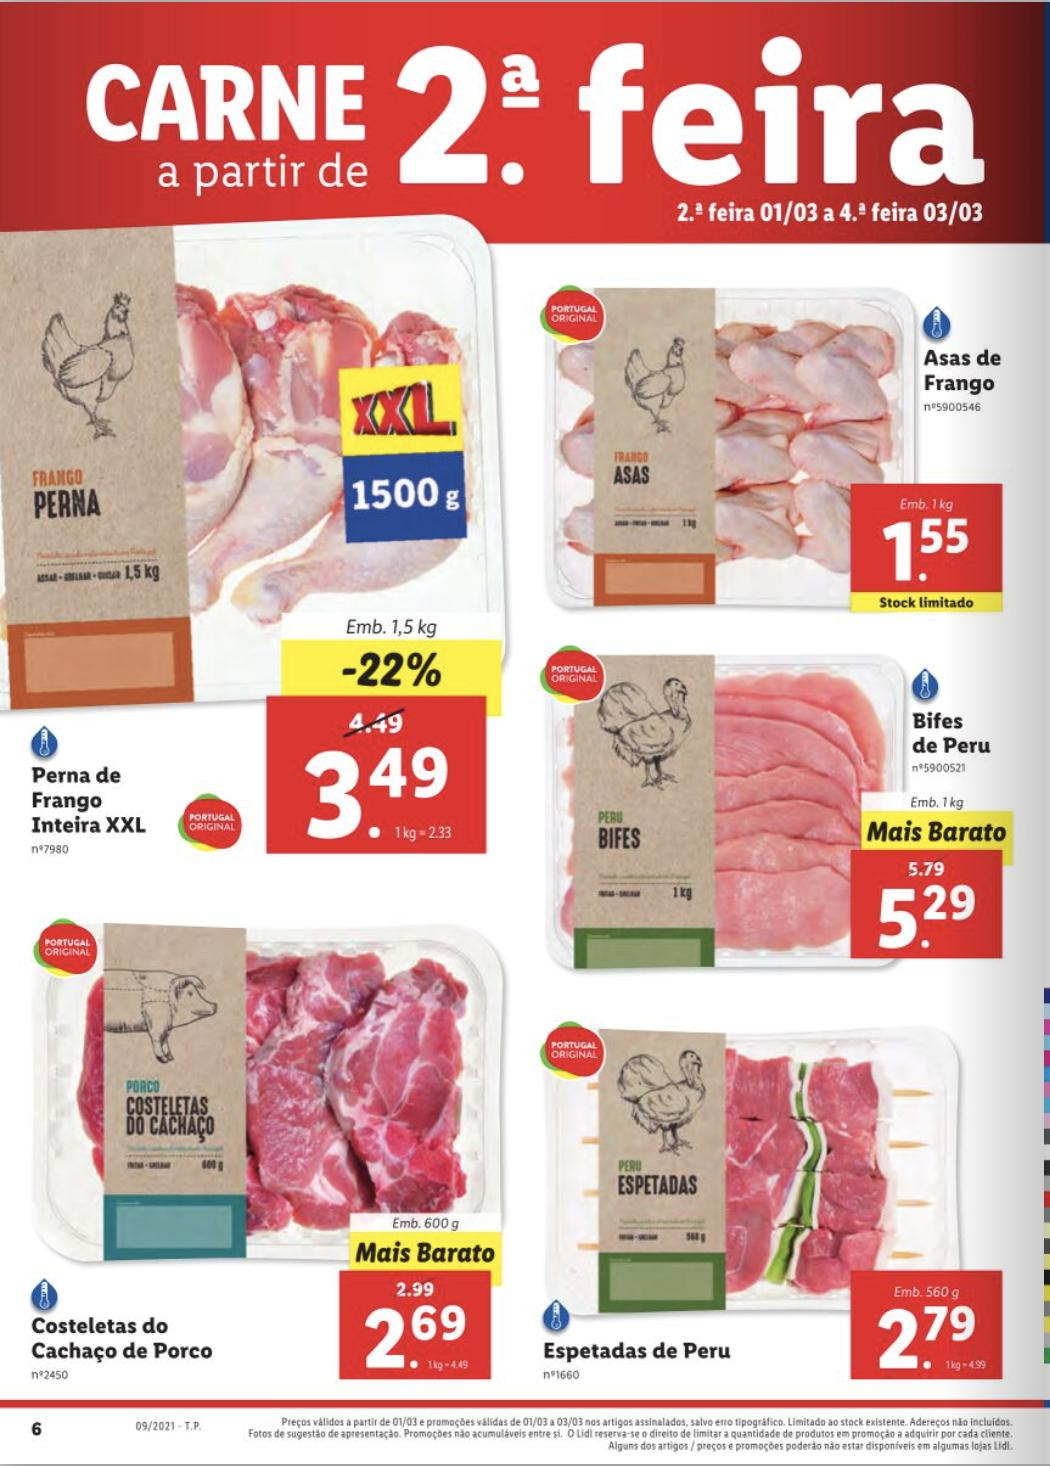name: (28, 763, 152, 843), (32, 1316, 219, 1363), (541, 1339, 741, 1367), (905, 707, 1001, 763), (920, 347, 1006, 399)
price: (299, 741, 459, 848), (874, 1307, 990, 1376), (363, 1307, 470, 1376), (875, 885, 983, 953), (881, 513, 972, 592)
product: (13, 207, 519, 881), (25, 901, 525, 1394), (517, 259, 1037, 636), (525, 1008, 1028, 1394), (539, 628, 1034, 988)
promotion: (332, 648, 445, 694)
